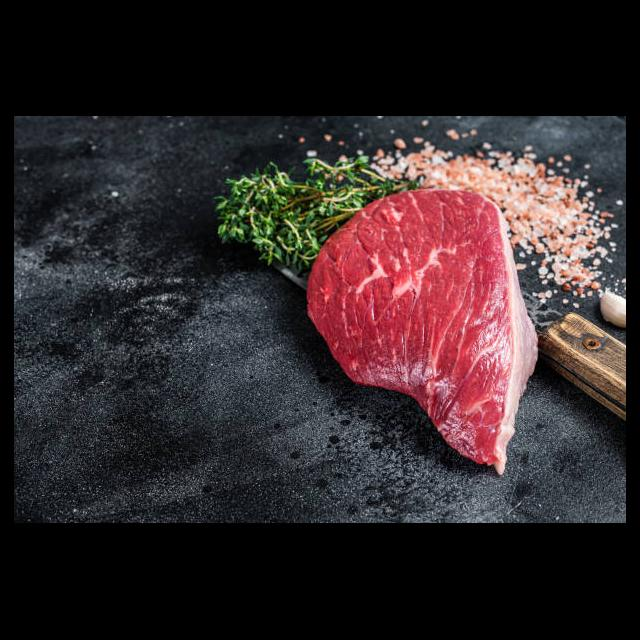beef: (304, 191, 539, 478)
